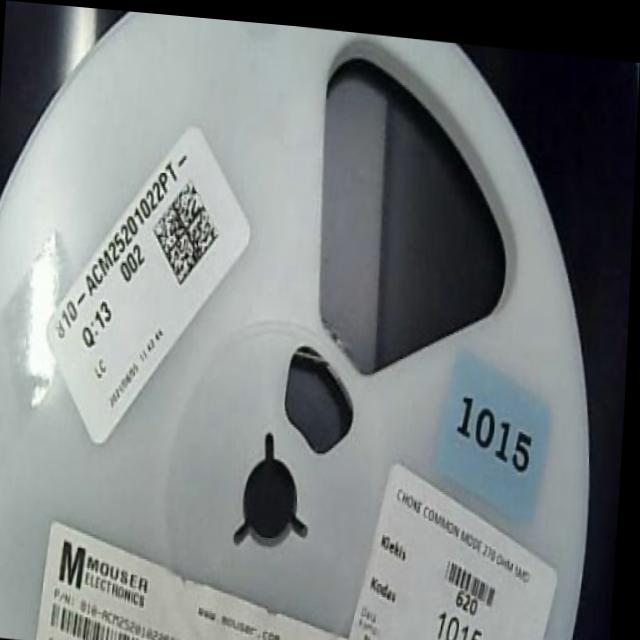datamatrix: (152, 170, 224, 286)
